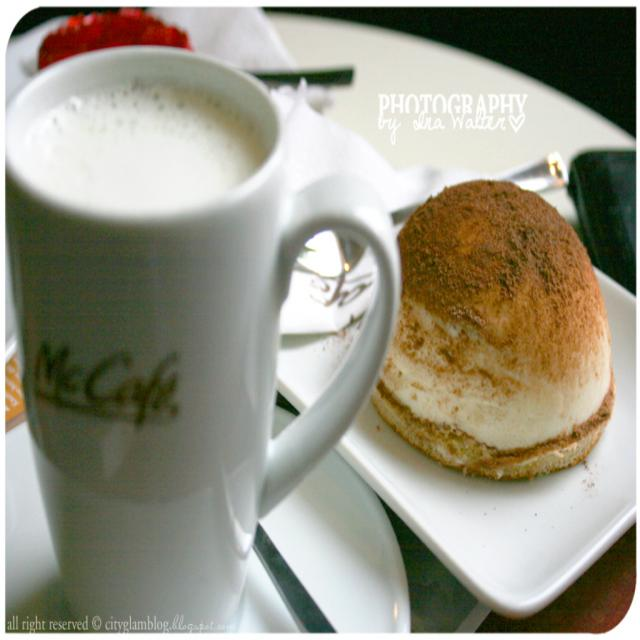Coffee: (12, 80, 263, 208)
Tea: (19, 77, 268, 208)
